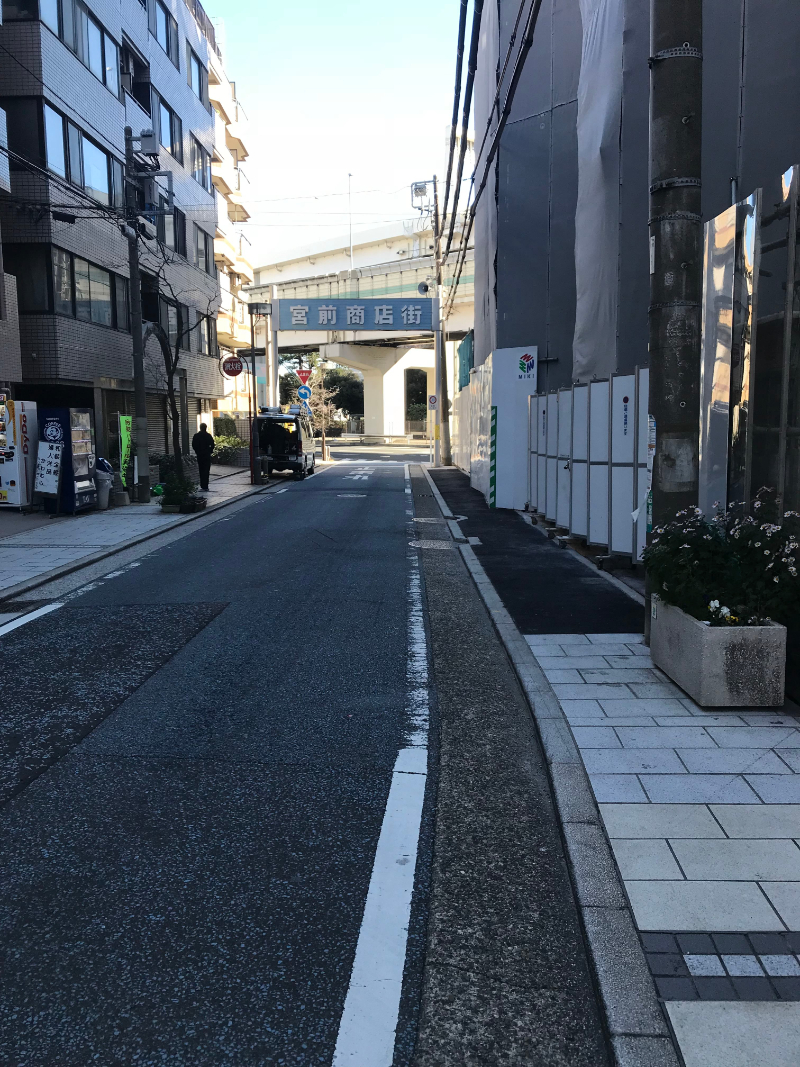STOP: (294, 369, 314, 383)
